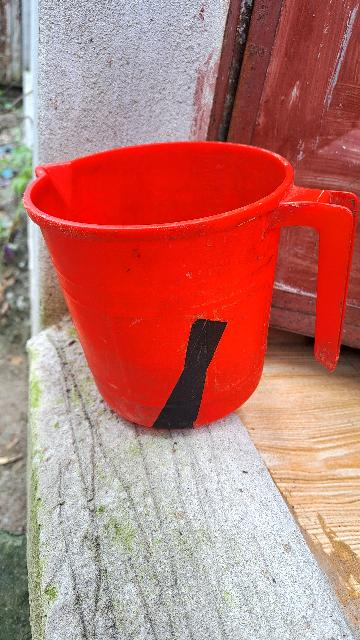hardplastic: (28, 149, 336, 439)
